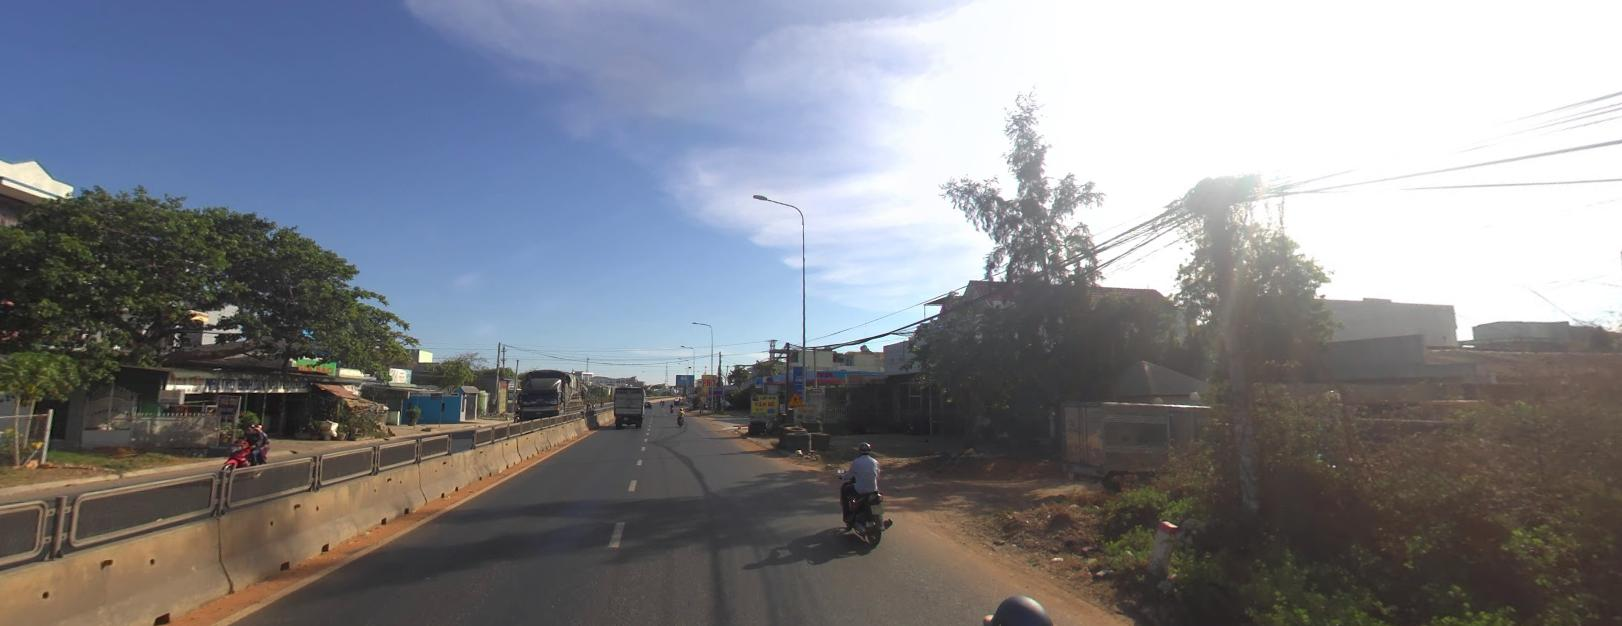Nguy hiem: (786, 390, 802, 405)
